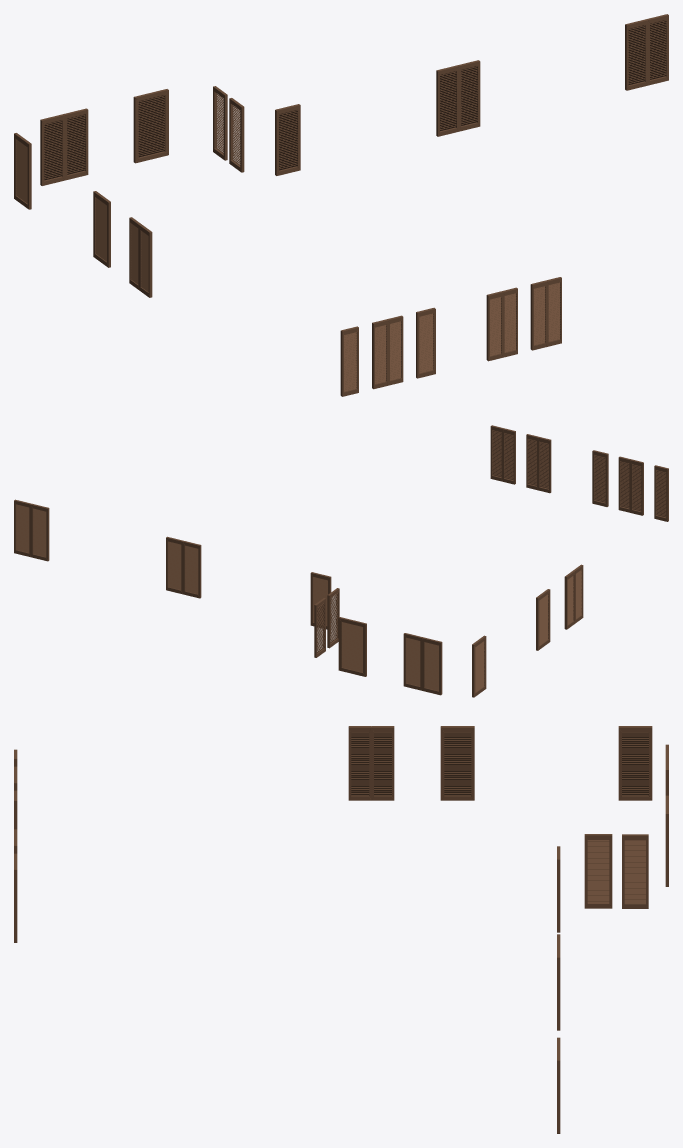
The model's file is Jalousies(ALL)_F0.fbx.
3 views of the same model, one above another, from view 1: azimuth 30°, elevation 25°; view 2: azimuth 150°, elevation 25°; view 3: azimuth 270°, elevation 25° (orthographic). The views are drawn at different scales.
Visible parts, largest first — view 1: Jalousie_08, Jalousie_05, Jalousie_10, Jalousie_09, Jalousie_02, Jalousie_04, Jalousie_03, Jalousie_01, Jalousie_18, Jalousie_15, Jalousie_11, Jalousie_12 (+10 smaller); view 2: Jalousie_08, Jalousie_10, Jalousie_09, Jalousie_02, Jalousie_04, Jalousie_01, Jalousie_03, Jalousie_18, Jalousie_11, Jalousie_12, Jalousie_15, Jalousie_05 (+10 smaller); view 3: Jalousie_11, Jalousie_12, Jalousie_06, Jalousie_07, Jalousie_13, Jalousie_14.
Boxes of the visible parts, x1=… form: Jalousie_08: x1=133, y1=89, x2=168, y2=163; Jalousie_05: x1=275, y1=104, x2=300, y2=175; Jalousie_10: x1=40, y1=114, x2=64, y2=185; Jalousie_09: x1=64, y1=108, x2=88, y2=180; Jalousie_02: x1=625, y1=19, x2=647, y2=90; Jalousie_04: x1=436, y1=65, x2=458, y2=136; Jalousie_03: x1=458, y1=60, x2=480, y2=131; Jalousie_01: x1=646, y1=14, x2=668, y2=85; Jalousie_18: x1=416, y1=307, x2=435, y2=378; Jalousie_15: x1=340, y1=326, x2=358, y2=396; Jalousie_11: x1=14, y1=133, x2=31, y2=209; Jalousie_12: x1=93, y1=191, x2=110, y2=267; Jalousie_08: x1=338, y1=617, x2=366, y2=676; Jalousie_10: x1=422, y1=637, x2=442, y2=695; Jalousie_09: x1=403, y1=633, x2=422, y2=690; Jalousie_02: x1=31, y1=504, x2=49, y2=561; Jalousie_04: x1=183, y1=541, x2=201, y2=598; Jalousie_01: x1=14, y1=499, x2=31, y2=557; Jalousie_03: x1=166, y1=536, x2=183, y2=594; Jalousie_18: x1=592, y1=450, x2=608, y2=506; Jalousie_11: x1=472, y1=635, x2=486, y2=697; Jalousie_12: x1=536, y1=589, x2=550, y2=650; Jalousie_15: x1=654, y1=465, x2=668, y2=521; Jalousie_05: x1=310, y1=572, x2=331, y2=629; Jalousie_11: x1=618, y1=726, x2=652, y2=800; Jalousie_12: x1=440, y1=726, x2=474, y2=800; Jalousie_06: x1=584, y1=834, x2=612, y2=908; Jalousie_07: x1=622, y1=834, x2=648, y2=908; Jalousie_13: x1=371, y1=726, x2=394, y2=800; Jalousie_14: x1=348, y1=726, x2=371, y2=800.
Size of the model in its own units: 17.2 by 1.76 by 14.23.
